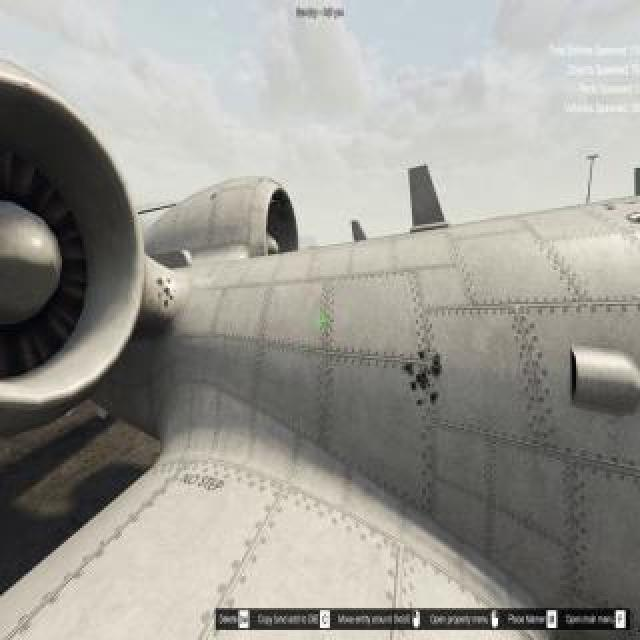crack: (405, 344, 447, 418), (156, 271, 180, 311)
